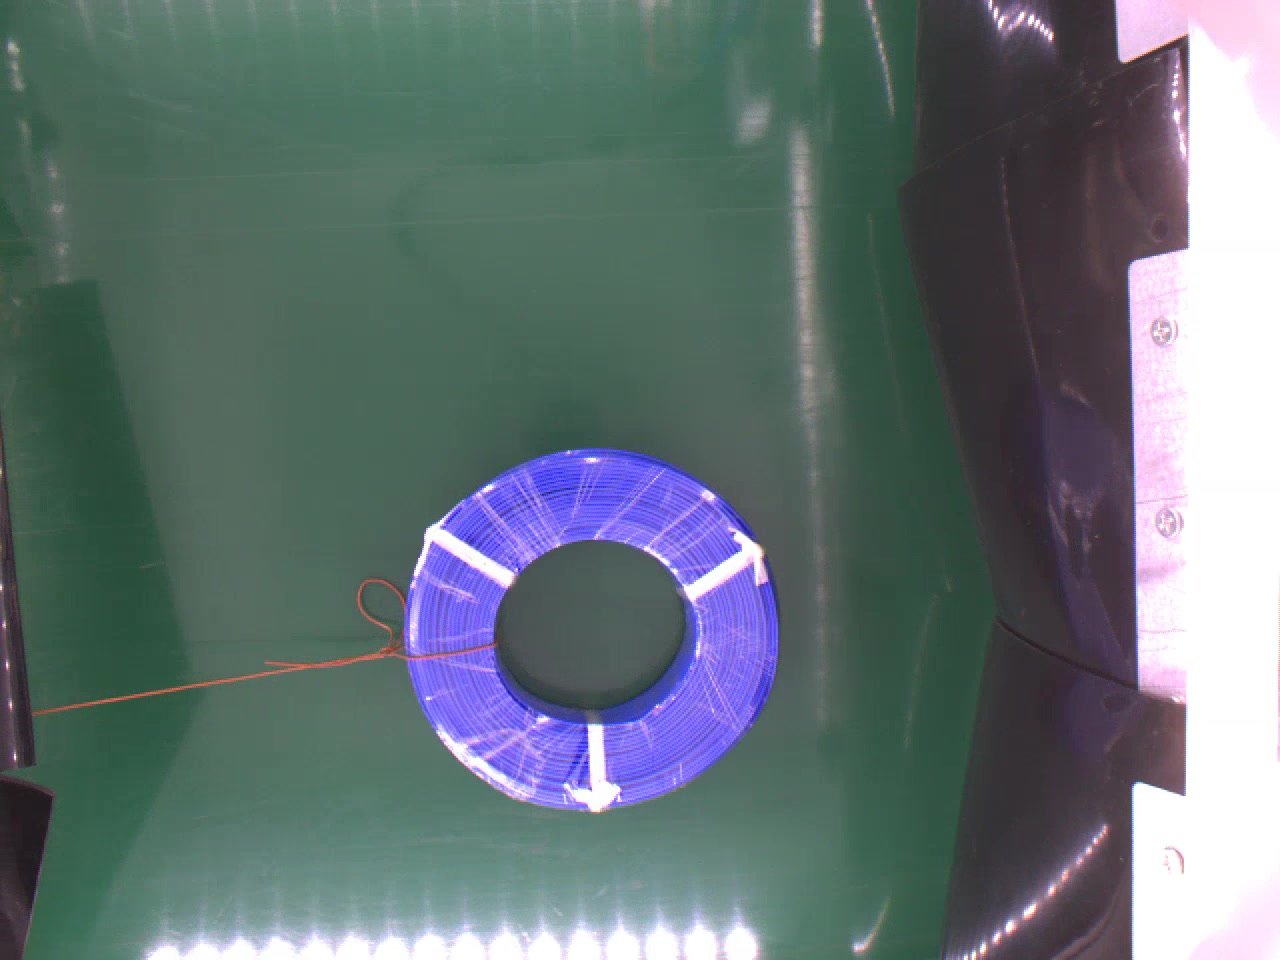blue: (398, 441, 791, 813)
